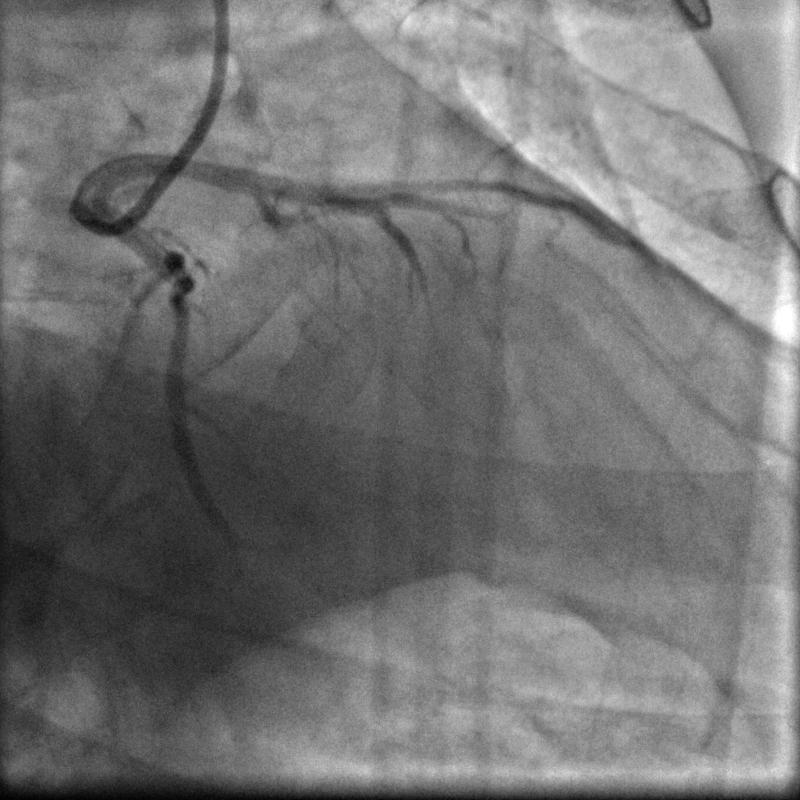Stenosis: (162, 261, 196, 319)
